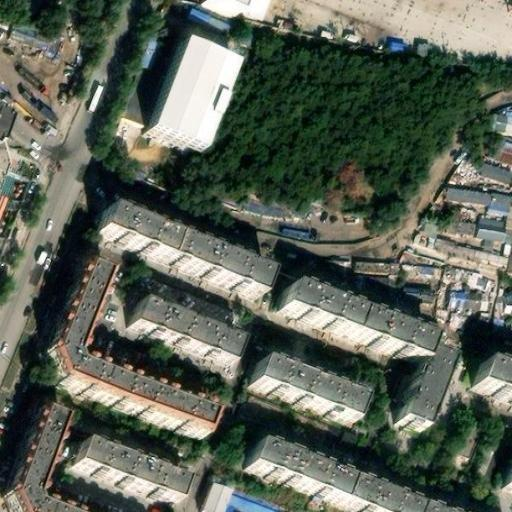building: (50, 266, 211, 433), (93, 207, 265, 295), (241, 440, 440, 512), (279, 282, 426, 360), (142, 39, 225, 147), (9, 405, 72, 512), (250, 356, 358, 417), (126, 298, 233, 359), (77, 433, 182, 492), (395, 349, 445, 424), (5, 16, 58, 52), (469, 365, 512, 404), (224, 487, 279, 512), (354, 260, 391, 295), (395, 261, 437, 285), (442, 186, 486, 208), (483, 109, 512, 137), (199, 486, 230, 512), (443, 266, 479, 286), (0, 94, 16, 139), (490, 306, 512, 337), (476, 163, 506, 185), (489, 141, 512, 166), (482, 194, 506, 216), (467, 229, 498, 246), (457, 249, 487, 266), (497, 456, 511, 492), (444, 220, 470, 238), (475, 217, 500, 233), (501, 238, 512, 274), (446, 289, 467, 307), (418, 222, 435, 239), (503, 208, 512, 239), (433, 238, 449, 253), (485, 254, 498, 268), (501, 293, 512, 307), (509, 175, 512, 187)
